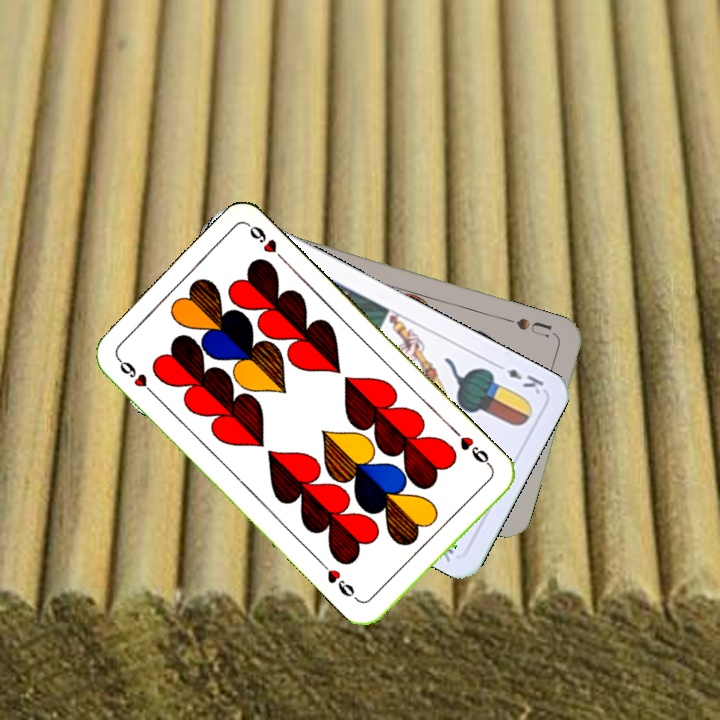EK: (490, 358, 547, 397)
H9: (113, 354, 159, 400), (451, 426, 496, 473)
SU: (512, 314, 555, 341)
